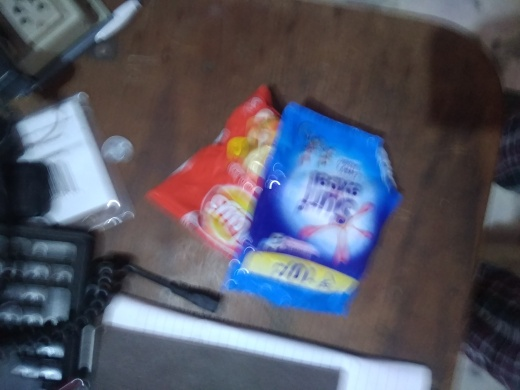lays: (143, 70, 290, 258)
surf: (228, 96, 402, 316)
